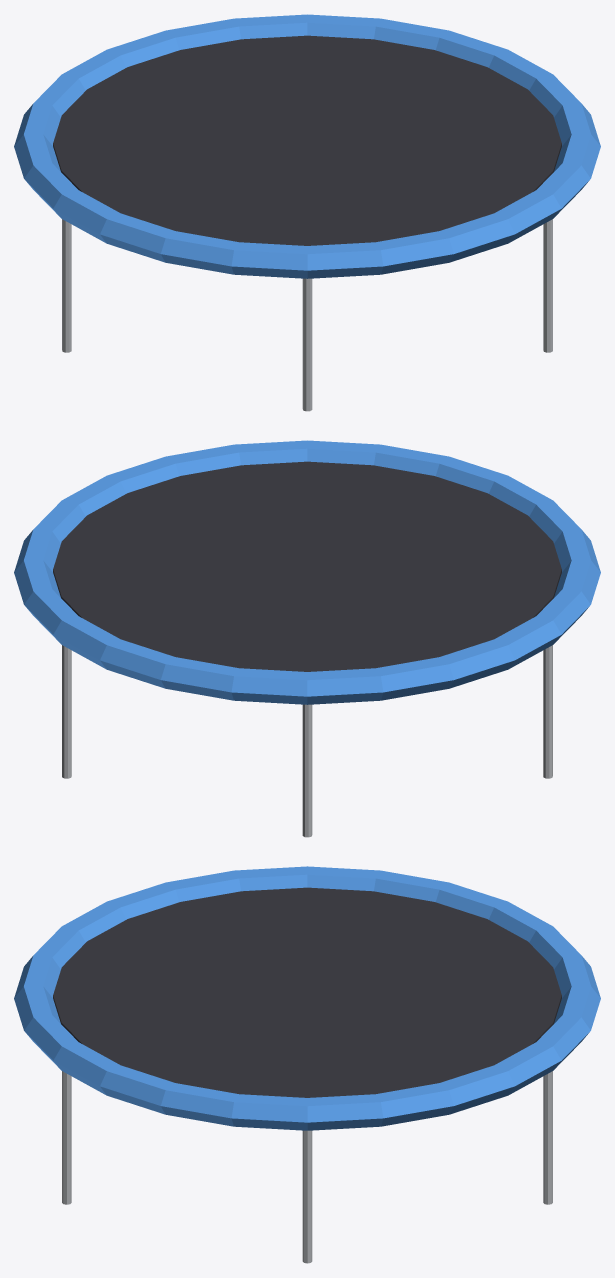
Rendered from SM_Backyard_Trampoline.fbx.
3 renders of one model, top to bottom at view 1: azimuth 30°, elevation 25°; view 2: azimuth 150°, elevation 25°; view 3: azimuth 270°, elevation 25°, orthographic.
Visible parts, largest first — view 1: SM_Backyard_Trampoline; view 2: SM_Backyard_Trampoline; view 3: SM_Backyard_Trampoline.
Part boxes in pixels (x1,y1,x2,y2): SM_Backyard_Trampoline: (14,14,600,411); SM_Backyard_Trampoline: (14,440,600,837); SM_Backyard_Trampoline: (14,866,600,1263).
Size of the model in its own units: 300 by 300 by 88.93.
